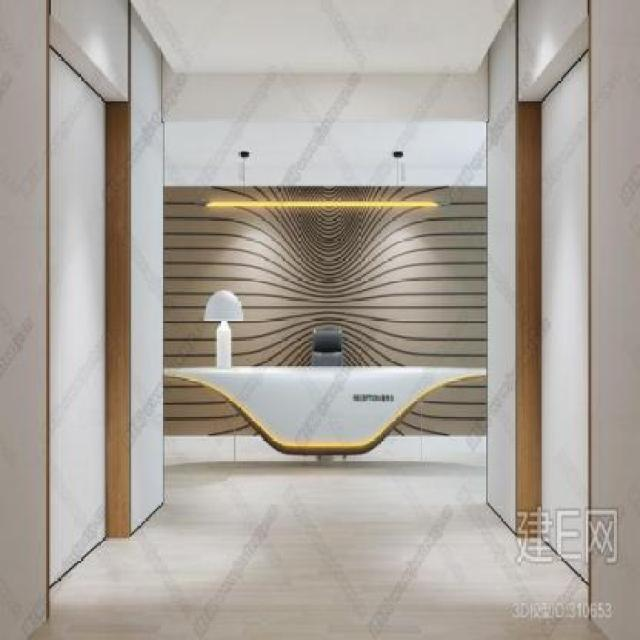frontdesk: (158, 349, 490, 471)
